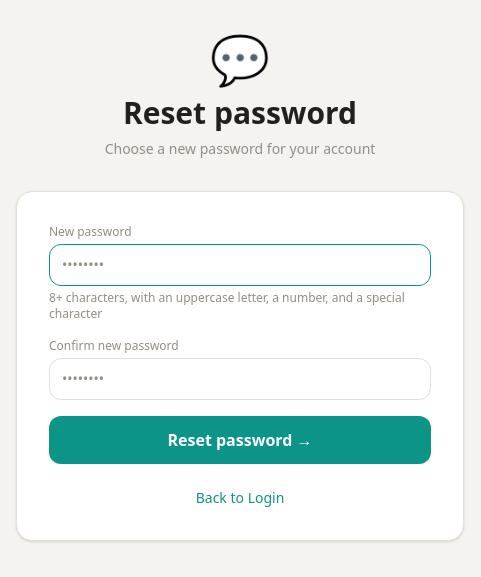
it: ResetPassword page › shows a server error and keeps the form visible when the request fails
Type "Str0ng!Pass" into the password field with placeholder "••••••••" at {"x": 240, "y": 265}, box [49, 244, 431, 286]
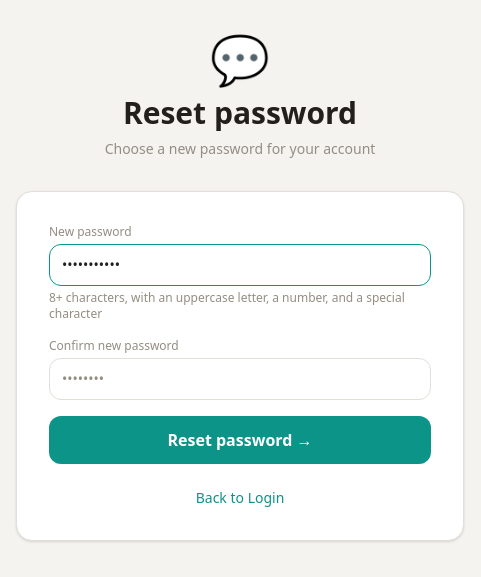
Type "Str0ng!Pass" into the password field with placeholder "••••••••" at {"x": 240, "y": 379}, box [49, 358, 431, 400]
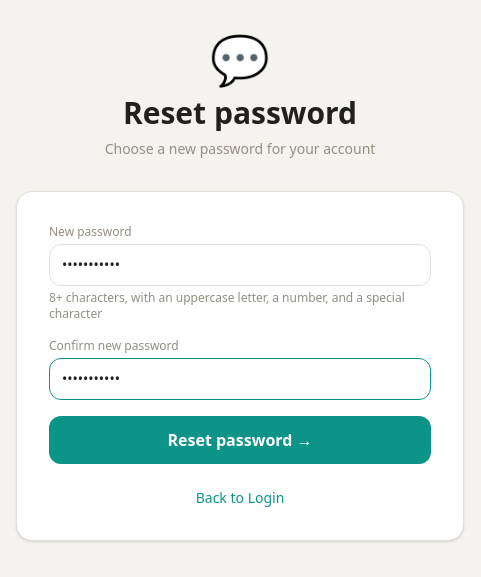
Click the button "Reset password →" at {"x": 240, "y": 440}, box [49, 416, 431, 464]
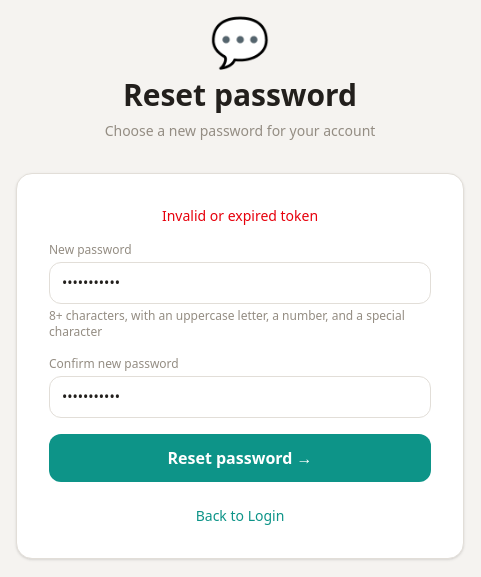
Expected: the number of password fields with placeholder "••••••••" is 2, [49, 262, 431, 304]; [49, 376, 431, 418]
Now the text "Invalid or expired token" is shown, box [162, 206, 318, 225]
